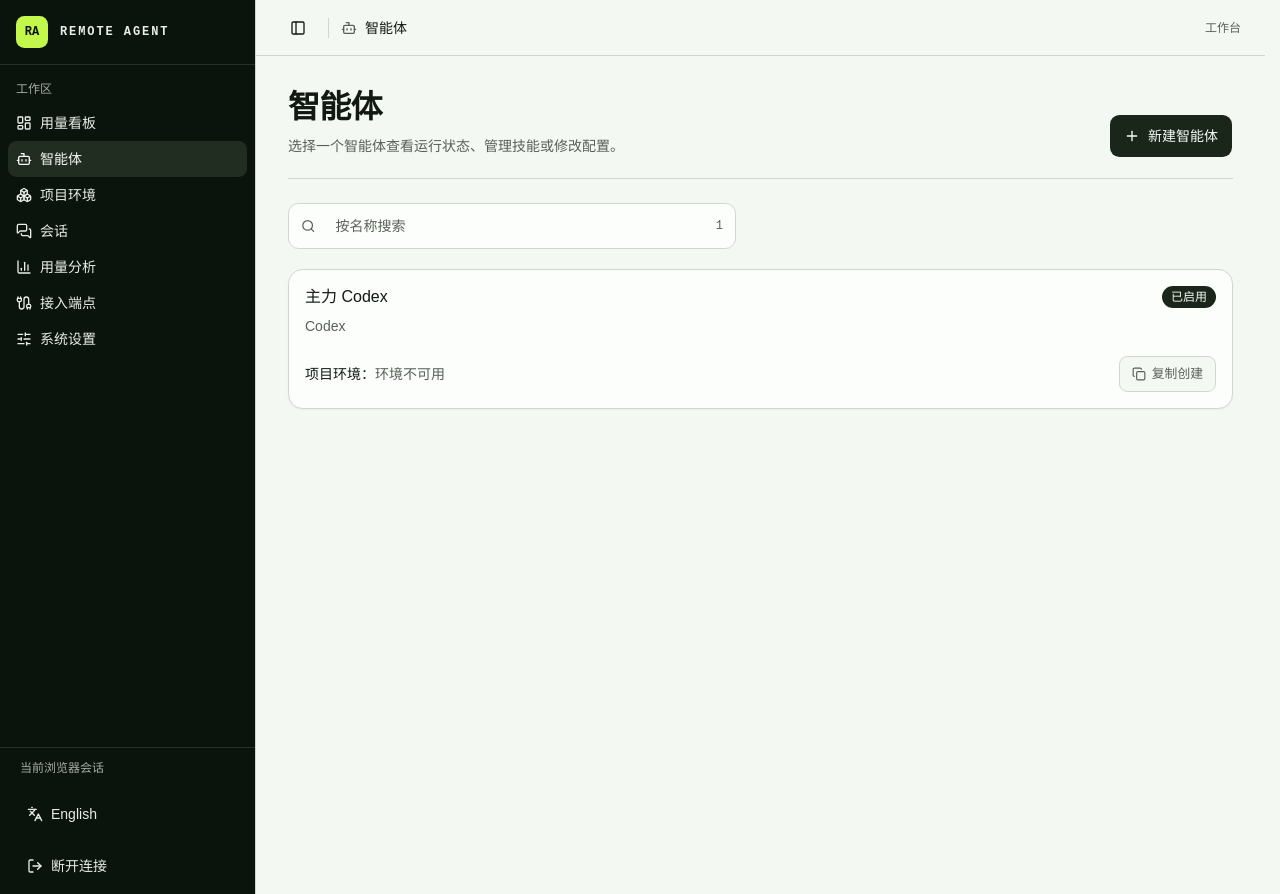
Agent 列表只负责浏览，并从独立页面创建 Agent
Check: the link "主力 Codex" is shown, box [305,288,388,305]
Check: the field labelled "智能体名称" is not shown
Step 1. Click the link "新建智能体" → (1171, 136), box [1109,114,1233,158]
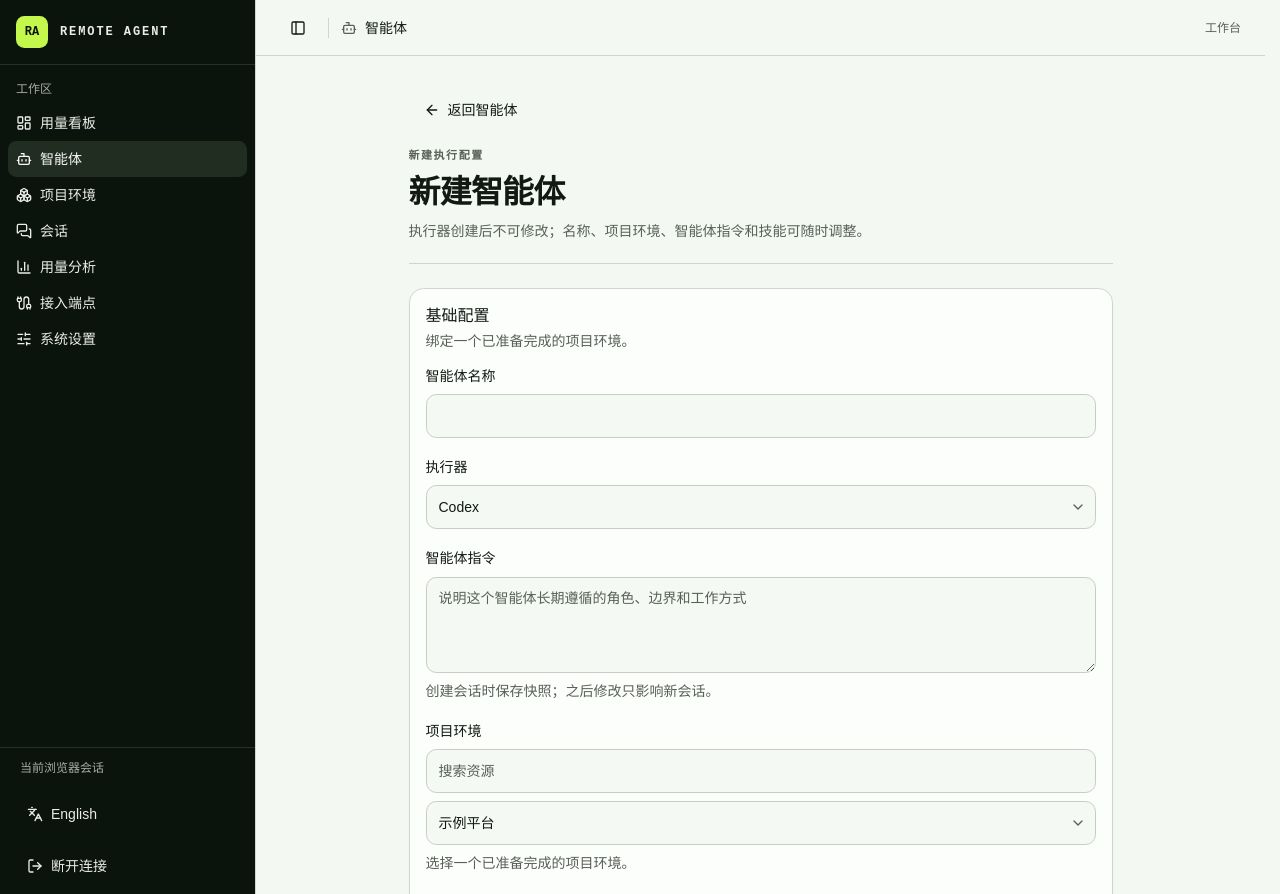
Check: the heading "新建智能体" is shown, box [408,174,564,210]
Check: the field labelled "智能体名称" is shown, box [426,394,1096,438]
